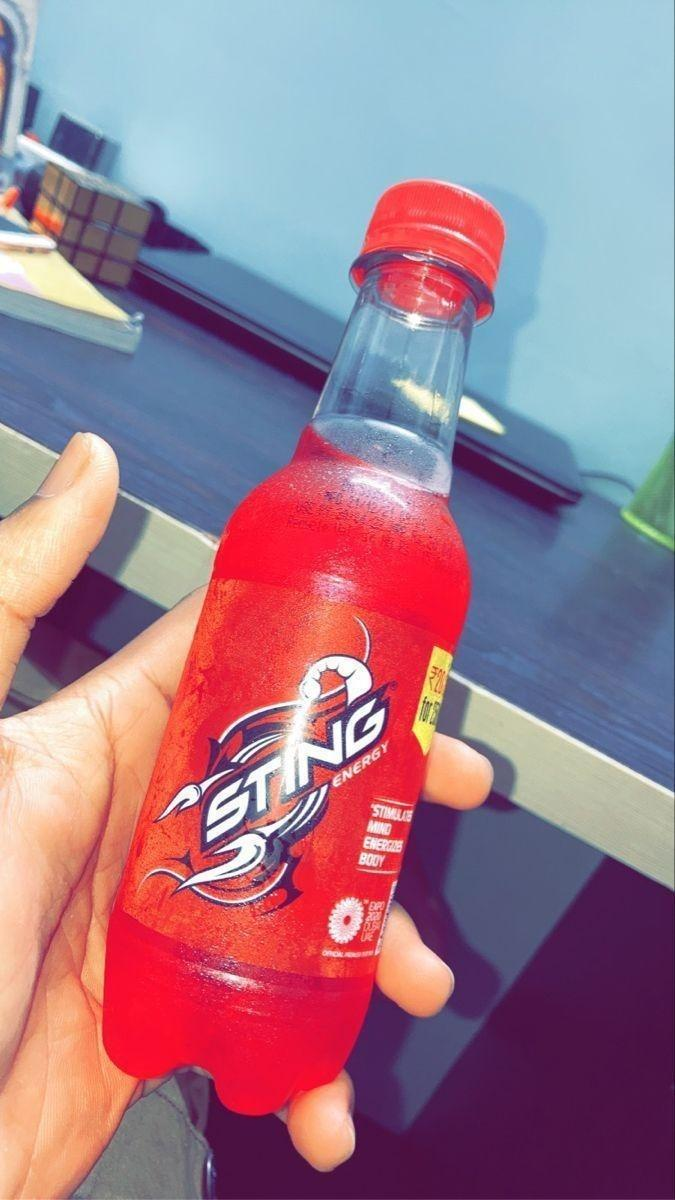bottle-plastic: (75, 171, 532, 1129)
